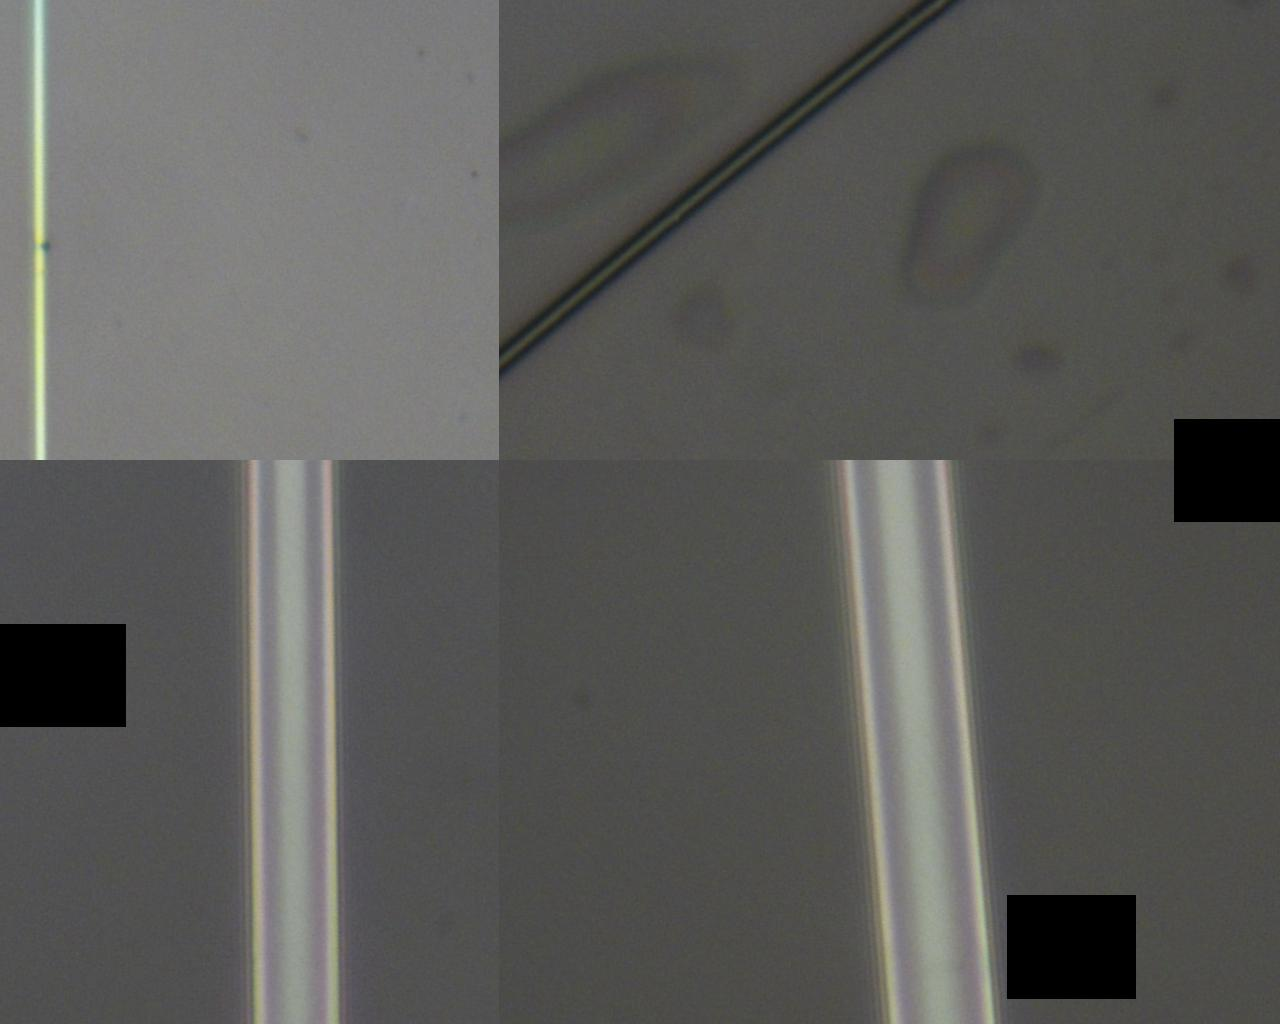fiber: (704, 0, 1116, 512), (0, 512, 704, 647), (704, 516, 1280, 566)
